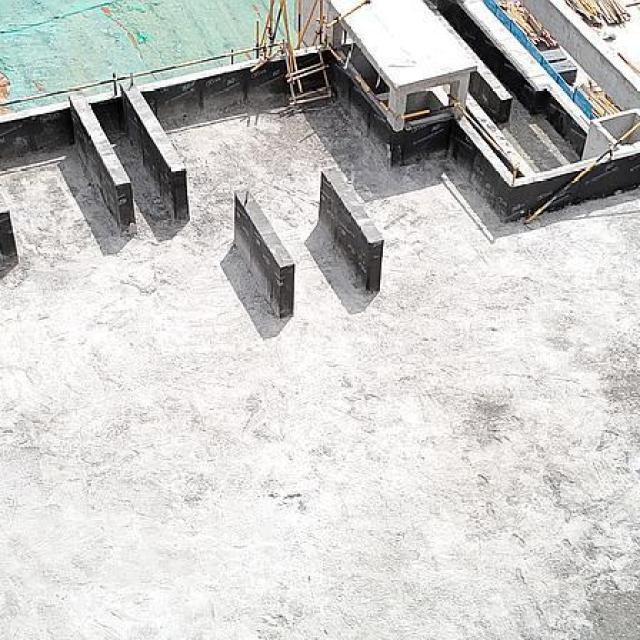edge_guardrail: (0, 40, 286, 109), (524, 119, 640, 225), (399, 101, 520, 186), (324, 44, 389, 113)
